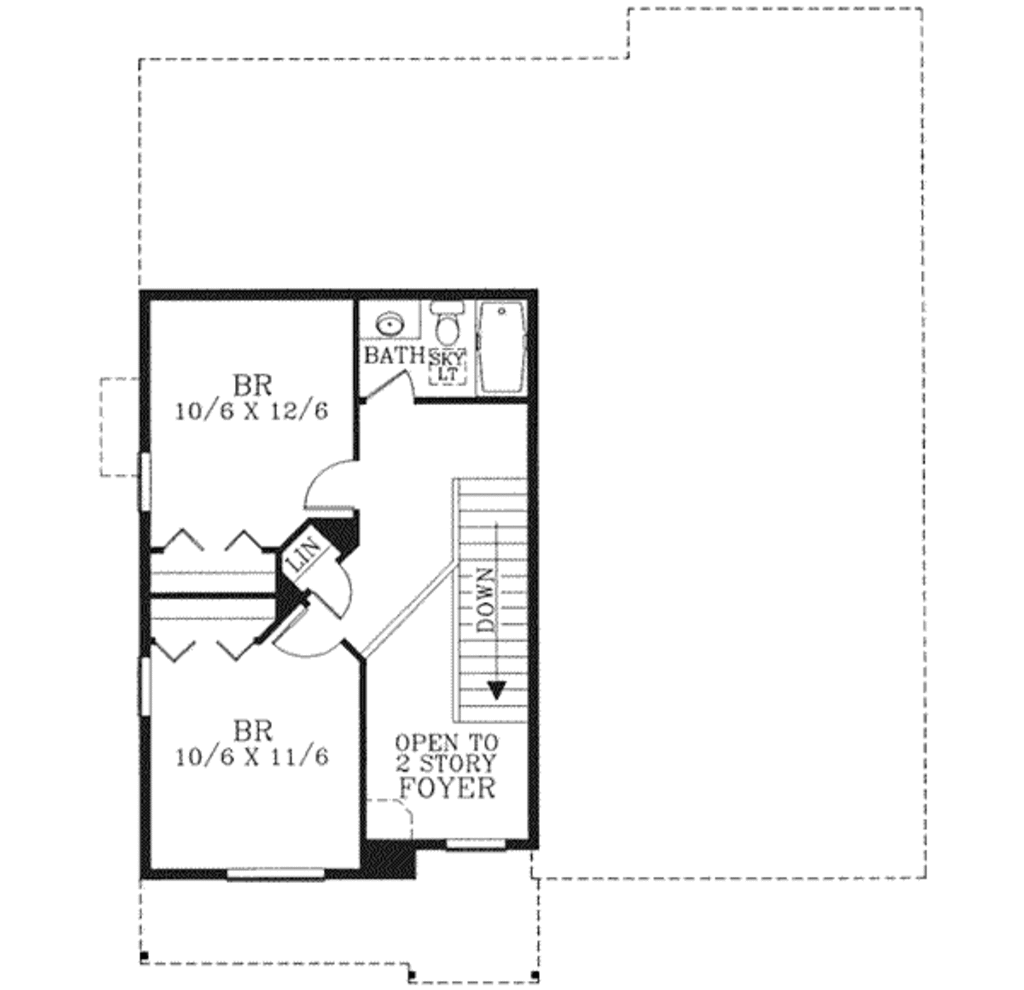door: (260, 605, 351, 668), (295, 450, 369, 519), (354, 361, 426, 418), (299, 548, 358, 616)
large_sink: (431, 291, 469, 362)
small_sink: (348, 296, 426, 347)
stairs: (429, 467, 563, 747)
tub: (478, 298, 525, 401)
window: (218, 856, 329, 887), (443, 824, 517, 864), (131, 450, 158, 518), (131, 650, 154, 727)
